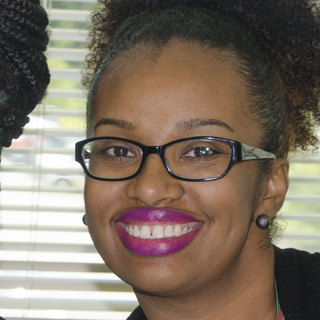eye: (182, 141, 225, 164), (98, 141, 140, 164)
